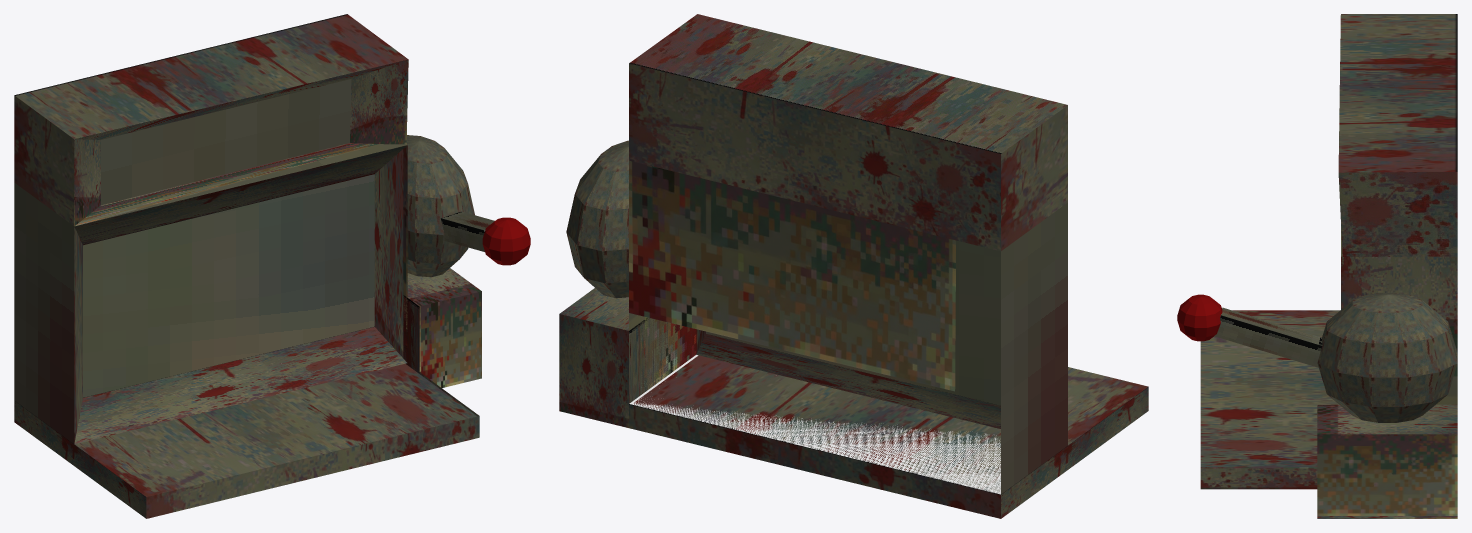
Rendered from machine.glb.
The picture shows the model from 3 angles, left to right: view 1: azimuth 30°, elevation 25°; view 2: azimuth 150°, elevation 25°; view 3: azimuth 270°, elevation 25°; orthographic projection. The views are drawn at different scales.
Parts seen in each view (by area): view 1: mesh (×4), sphere (×2), group2; view 2: mesh (×4), sphere; view 3: mesh (×4), sphere (×2), group2.
Boxes of the visible parts, x1,y1,x2,y2 form: mesh (×4): (14, 14, 481, 518); sphere (×2): (406, 135, 530, 277); group2: (440, 211, 494, 251); mesh (×4): (559, 14, 1148, 518); sphere: (566, 140, 628, 298); mesh (×4): (1200, 14, 1457, 518); sphere (×2): (1177, 293, 1457, 422); group2: (1214, 307, 1322, 367).
Bounding box in the file's own units: 1.23 × 0.9375 × 0.75.
5 materials, 3 textured.
